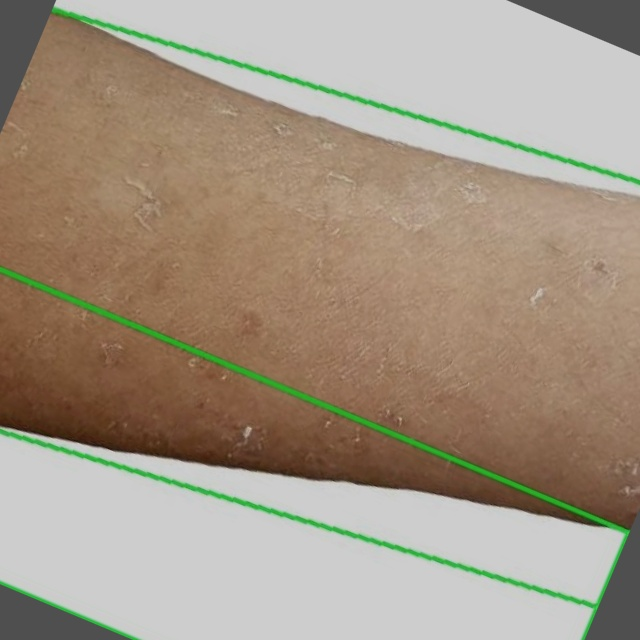Tinea Corporis: (0, 14, 639, 603), (0, 269, 628, 639)
